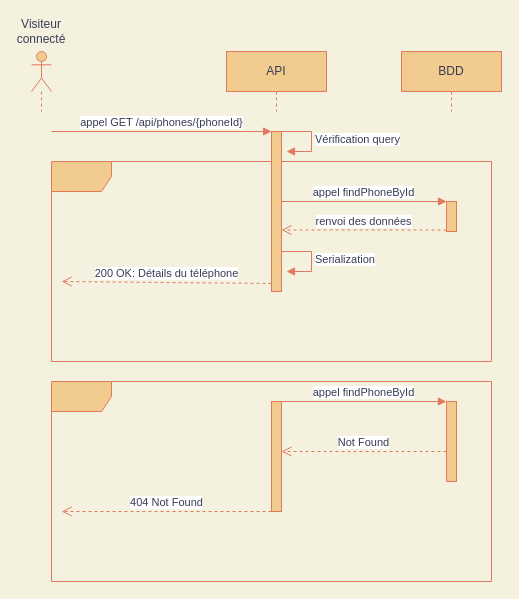
Image size: 519x599. Some labels were removed from this diagram. Here are the shapes that lost their labels. From the top down, the box of each, then its label:
(50, 160, 492, 362): Cas valide
(50, 380, 492, 582): Cas non valide
